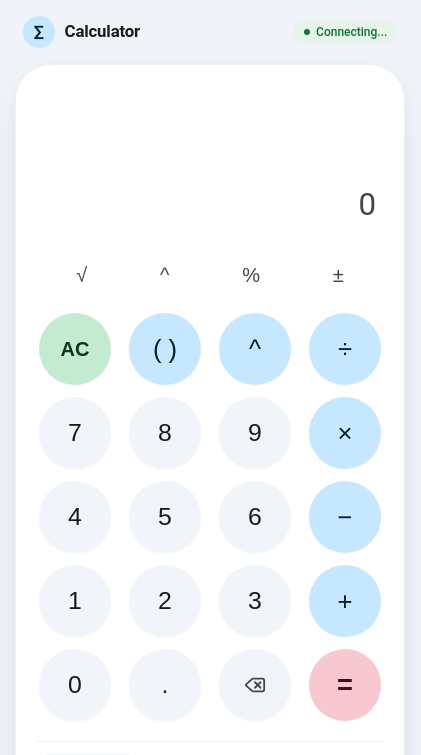
Calculator App Integration › performs full calculation flow via UI buttons
The image size is (421, 755).
// Click 1, 2
Click the button with test id "key-1".
click(75, 601)  # box top-left (39, 565), bottom-right (111, 637)
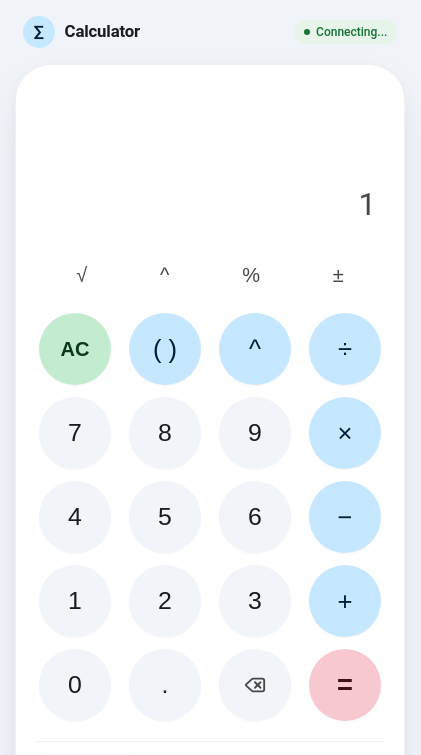
Click the button with test id "key-2".
click(165, 601)  # box top-left (129, 565), bottom-right (201, 637)
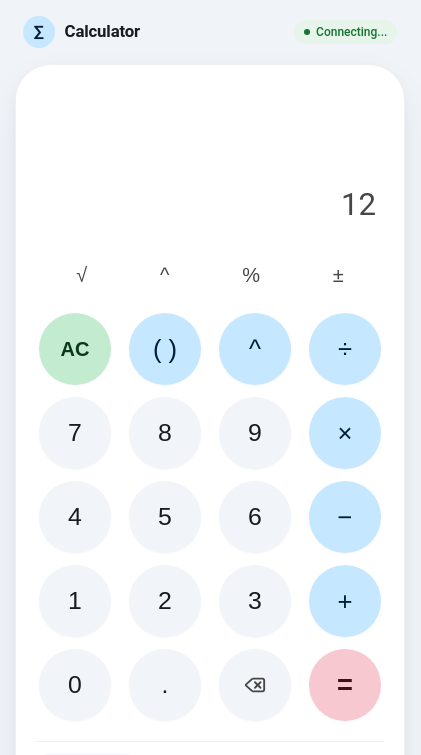
Now the text with test id "display-value" reads "12", box top-left (341, 186), bottom-right (376, 223)
//  Click +
Click the button with test id "key-add".
click(345, 601)  # box top-left (309, 565), bottom-right (381, 637)
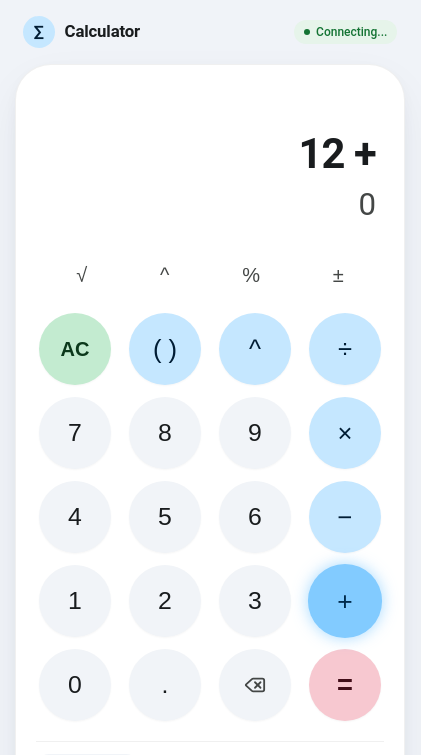
Now the text with test id "display-equation" reads "12 +", box top-left (298, 129), bottom-right (376, 178)
// Click 3, 4
Click the button with test id "key-3".
click(255, 601)  # box top-left (219, 565), bottom-right (291, 637)
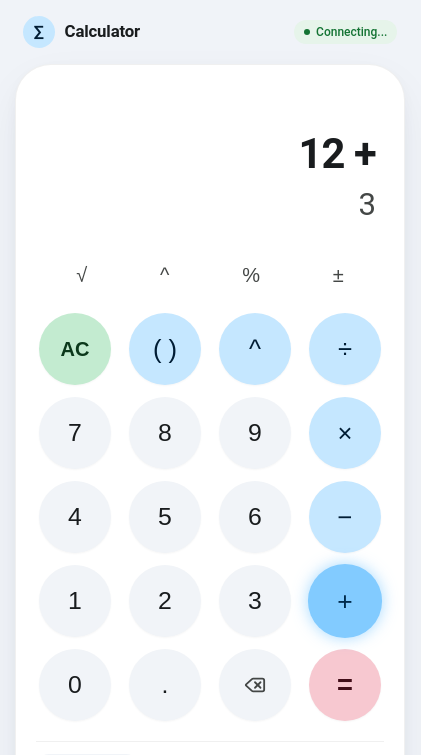
Click the button with test id "key-4".
click(75, 517)  # box top-left (39, 481), bottom-right (111, 553)
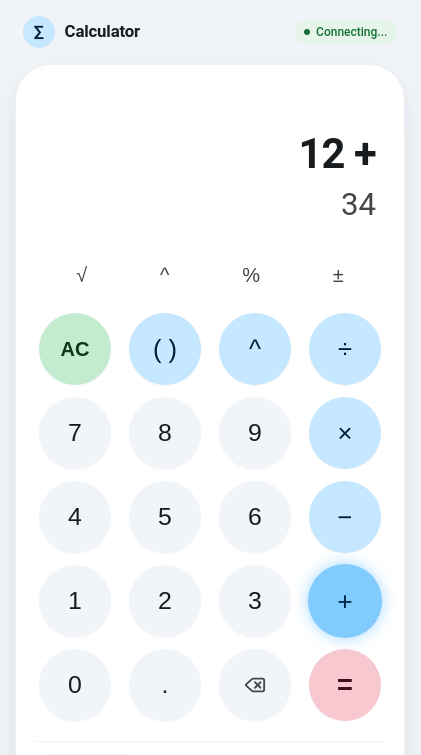
Now the text with test id "display-value" reads "34", box top-left (341, 186), bottom-right (376, 223)
Click the button with test id "key-equals".
click(345, 685)  # box top-left (309, 649), bottom-right (381, 721)
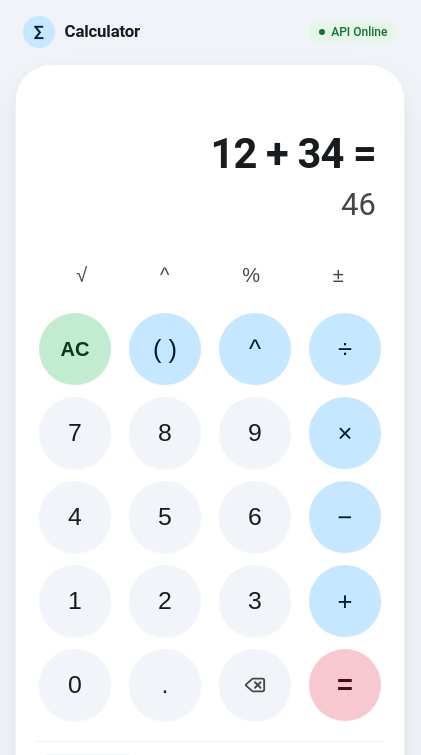
Now the text with test id "display-value" reads "46", box top-left (341, 186), bottom-right (376, 223)
